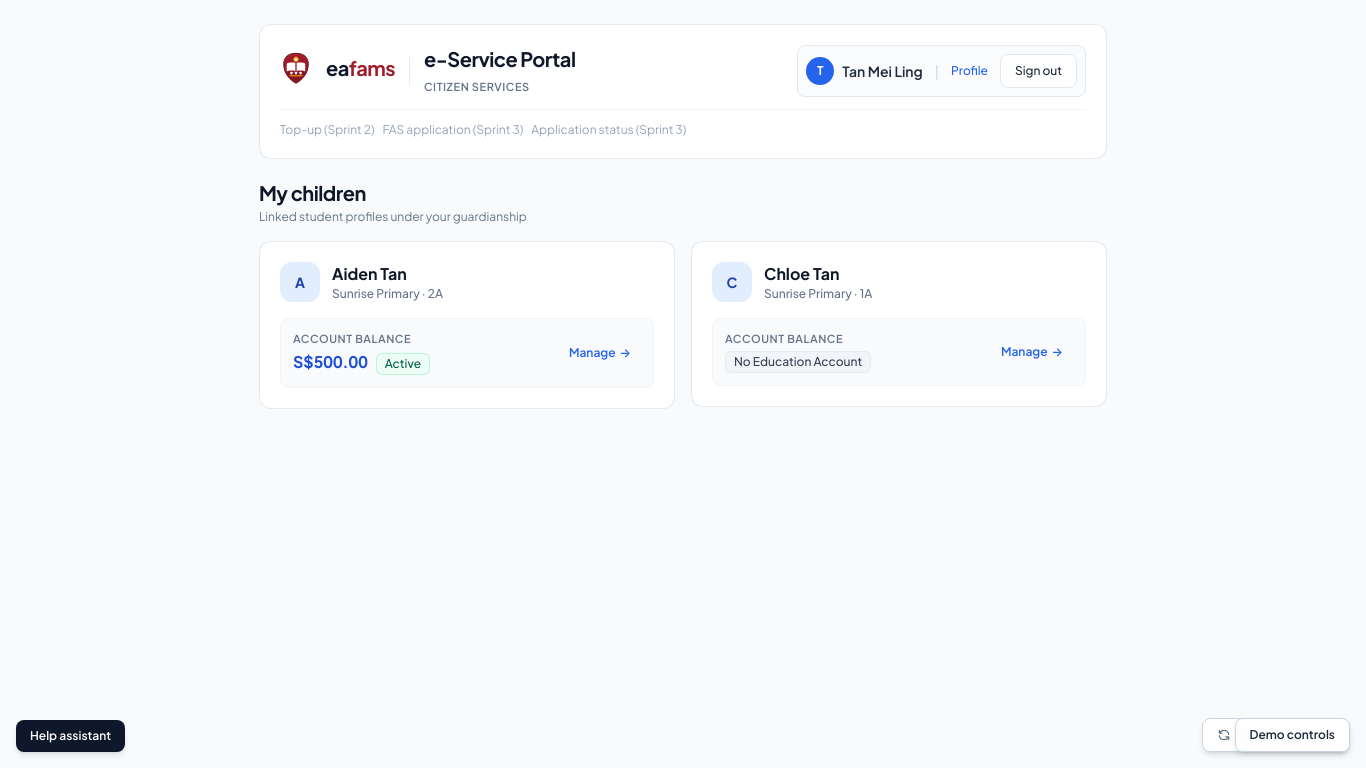
Scenario: refuses personal data and offers a link
Click the button "Help assistant" at {"x": 71, "y": 736}, box [16,720,125,752]
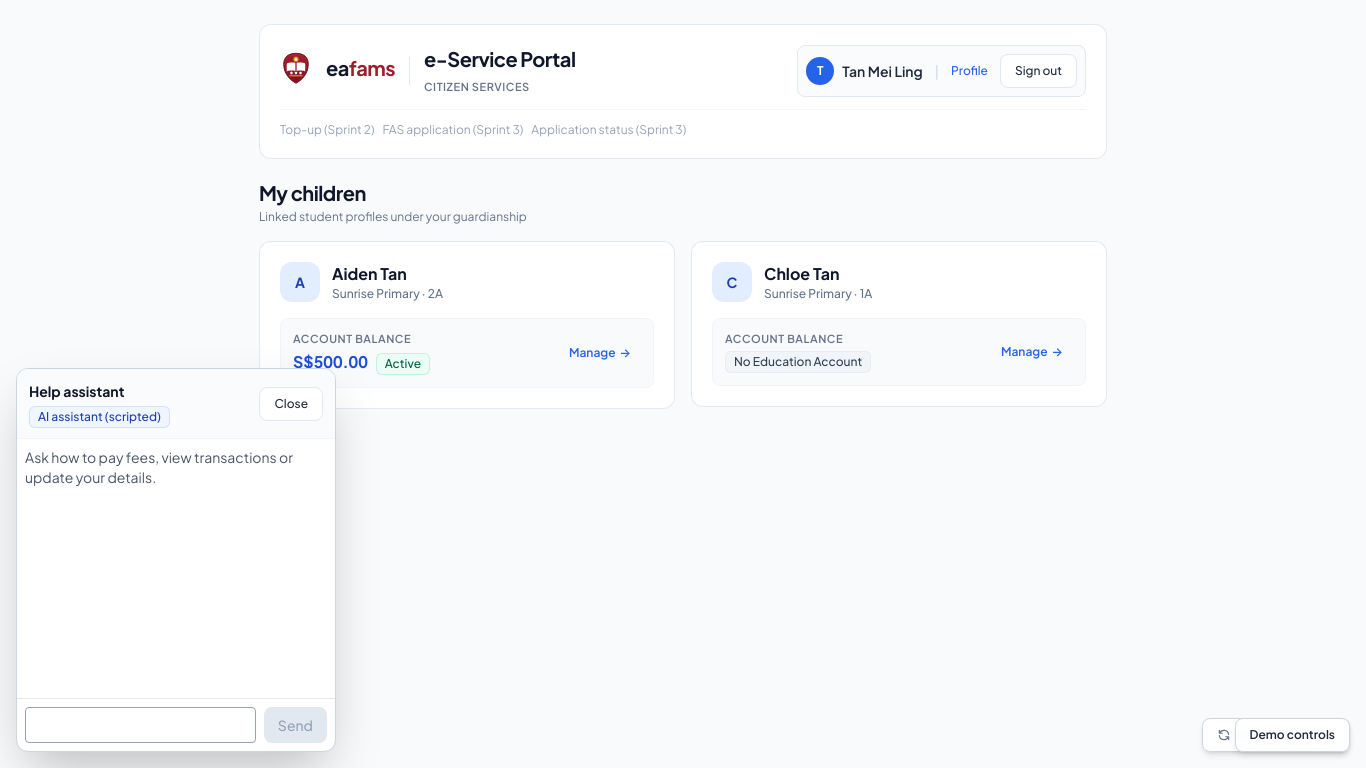
Type "What is my balance?" into the field named "your question" at {"x": 140, "y": 725}, box [25,707,256,743]
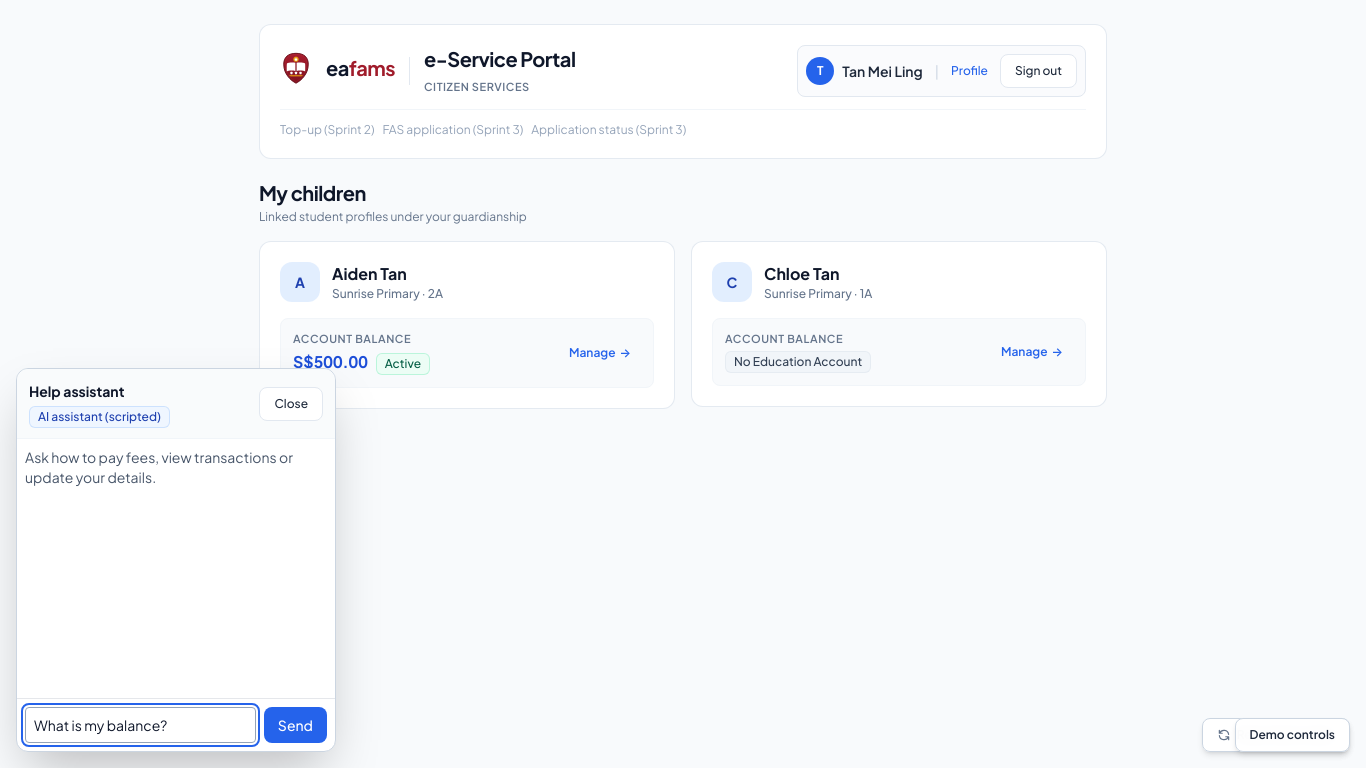
Click the button "Send" at {"x": 295, "y": 725}, box [264,707,327,743]
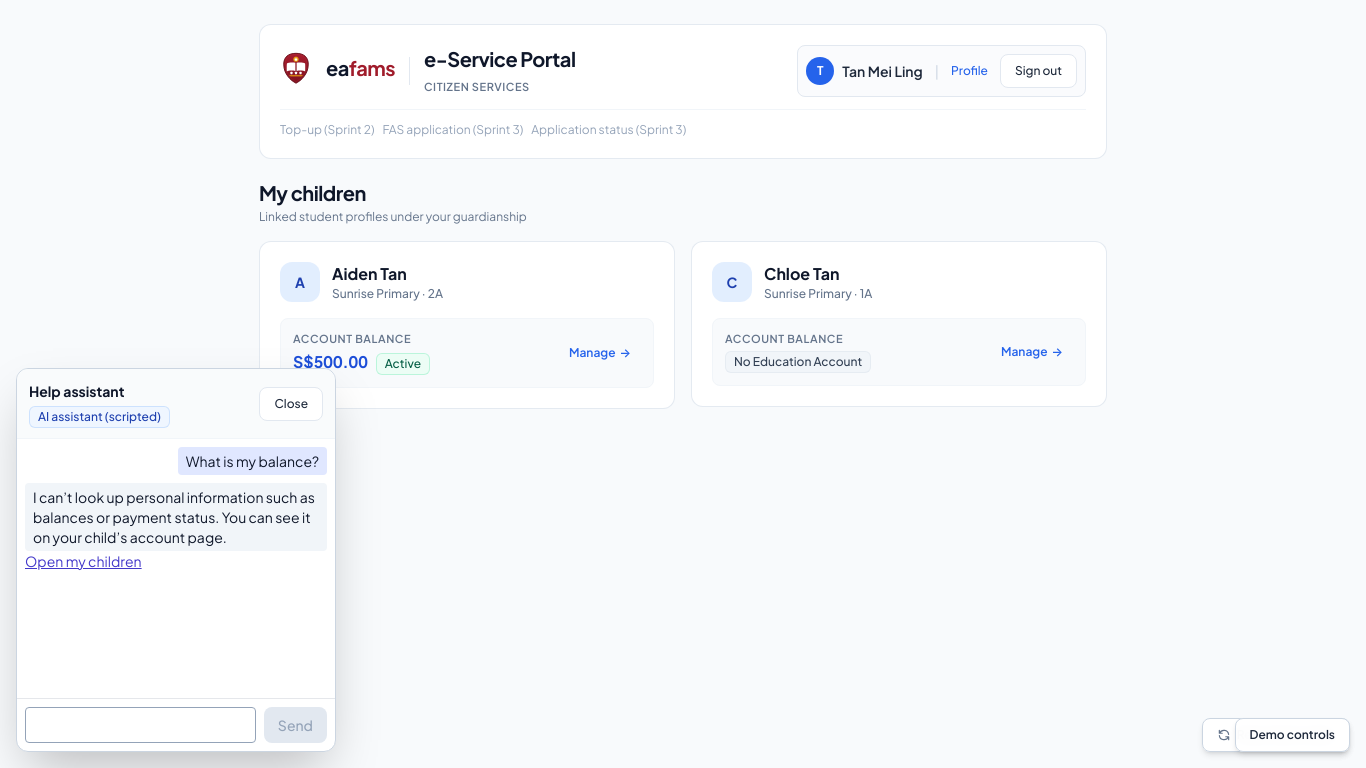
Expected: the text "can.t look up personal information" is shown, [33,488,315,546]
